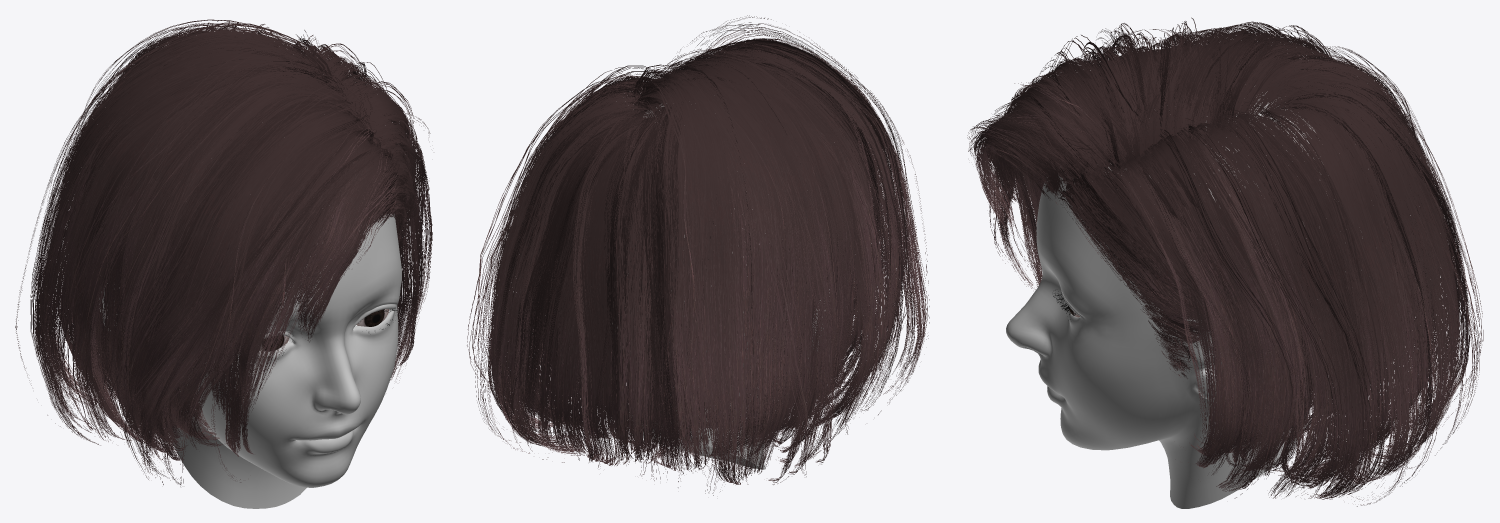
The model's file is Character_Head_full.fbx.
3 renders of one model, left to right at view 1: azimuth 30°, elevation 25°; view 2: azimuth 150°, elevation 25°; view 3: azimuth 270°, elevation 25°, orthographic. The views are drawn at different scales.
Visible parts, largest first — view 1: Hair, Head; view 2: Hair, Head; view 3: Hair, Head.
Part boxes in pixels (<box>): Hair: <box>15,19,432,486</box>; Head: <box>99,214,401,508</box>; Hair: <box>467,15,929,495</box>; Head: <box>612,103,829,469</box>; Hair: <box>967,17,1483,506</box>; Head: <box>1006,86,1368,508</box>.
Bounding box in the file's own units: 24.85 × 28.6 × 29.04.
